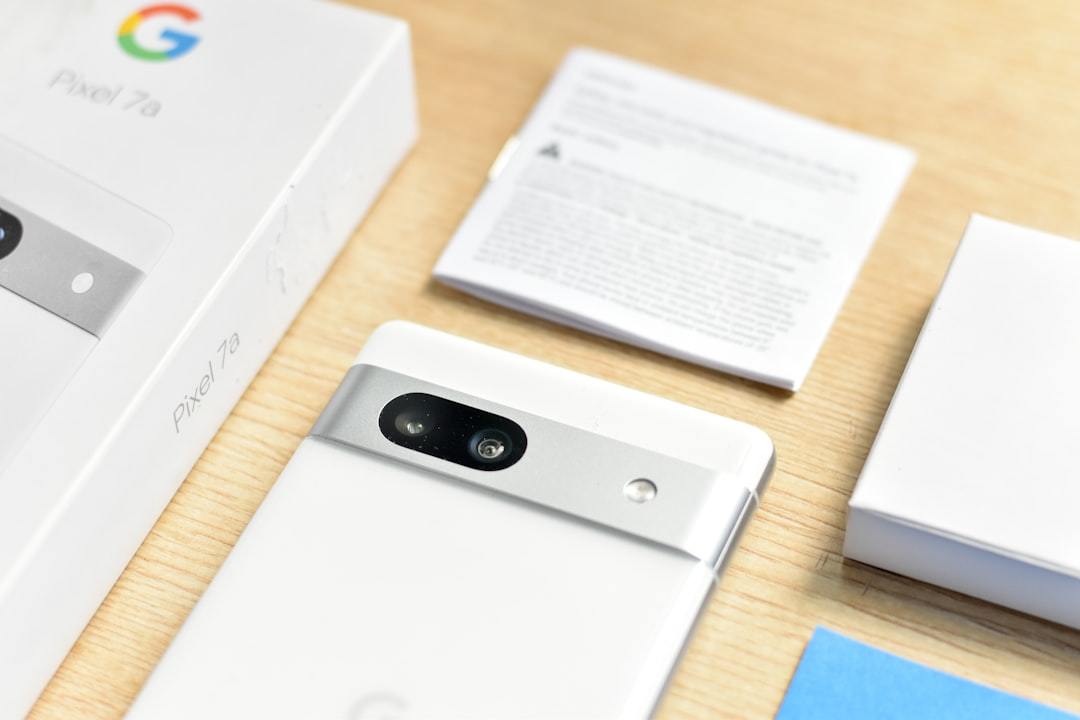phone: (113, 317, 776, 720)
